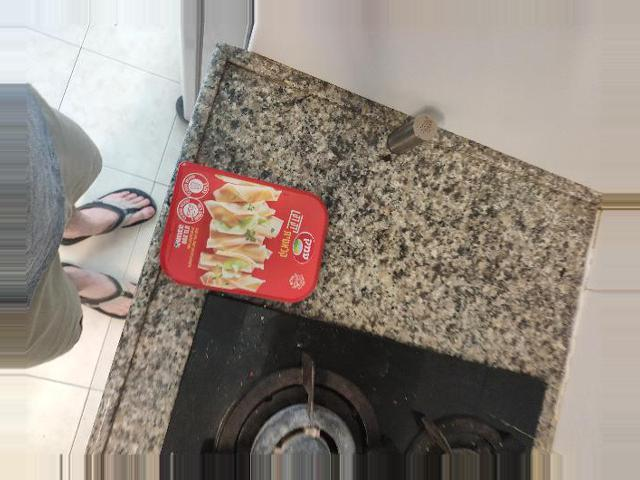cheese: (296, 171, 447, 309)
